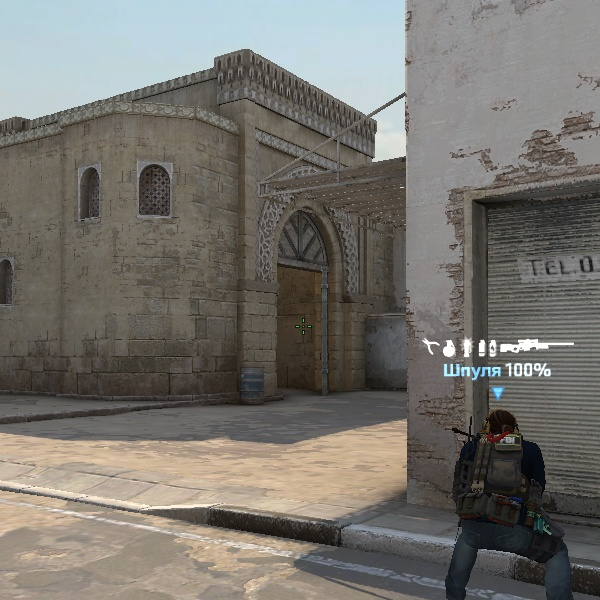ct_body: (452, 409, 577, 598)
ct_head: (485, 408, 517, 441)
